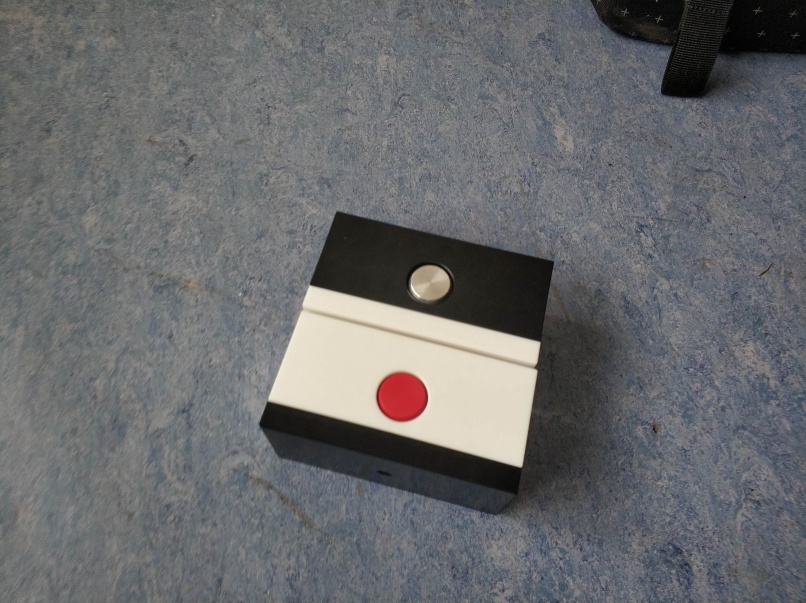black+white+red: (253, 303, 537, 517)
white+black+silver: (300, 211, 558, 367)
